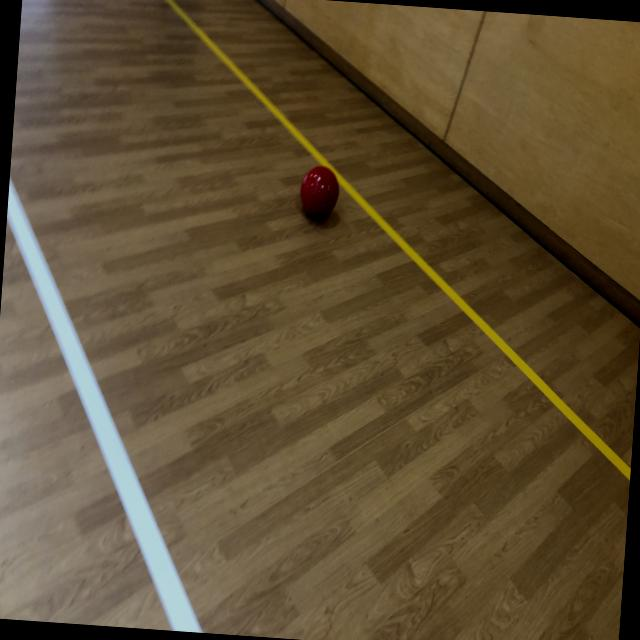red_ball: (298, 163, 339, 220)
